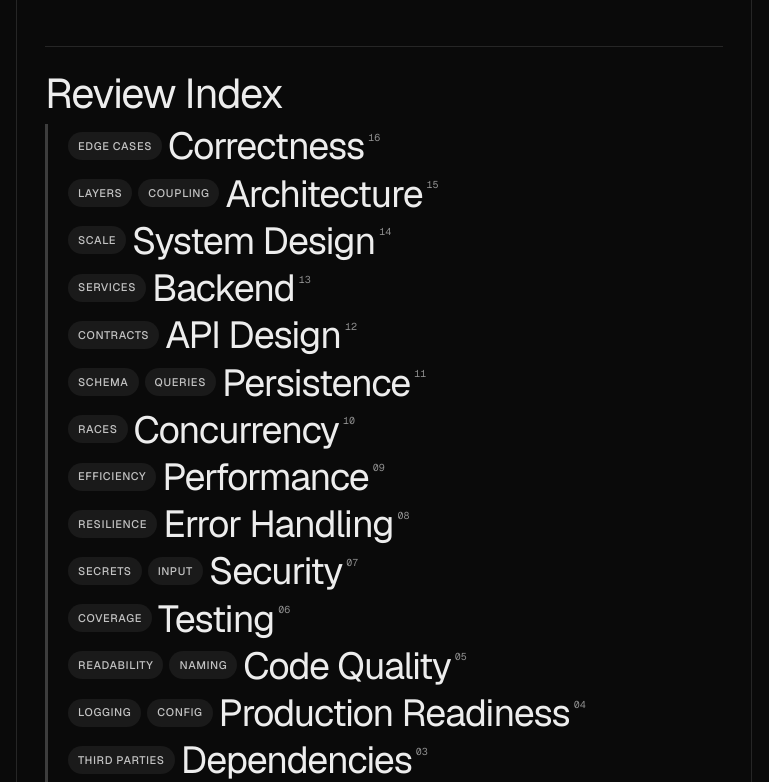
Test: pointing at a review dimension explains what it covers
(page scrolled)
Hover over the button "Schema Queries Persistence11".
mouse_move(247, 382)  # box [68,360,426,404]
(page scrolled)
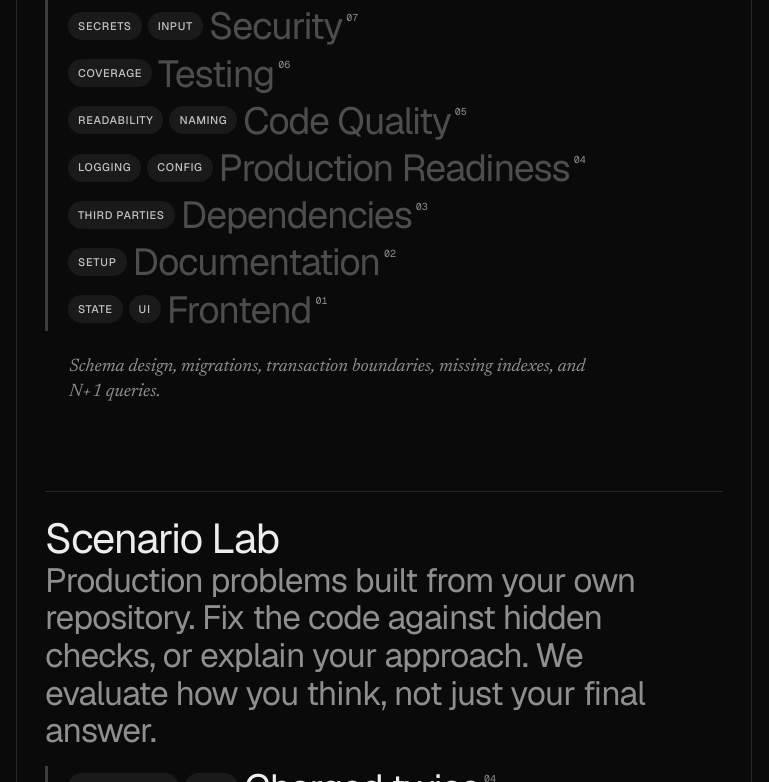
Expected: the text "N+1 queries" is shown, [69,358,585,401]
